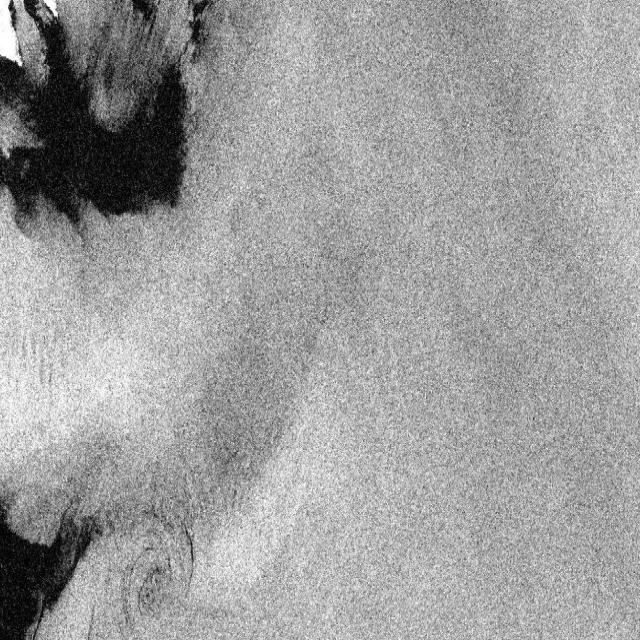look-alike: (1, 62, 197, 232), (2, 474, 91, 636), (182, 5, 211, 58)
